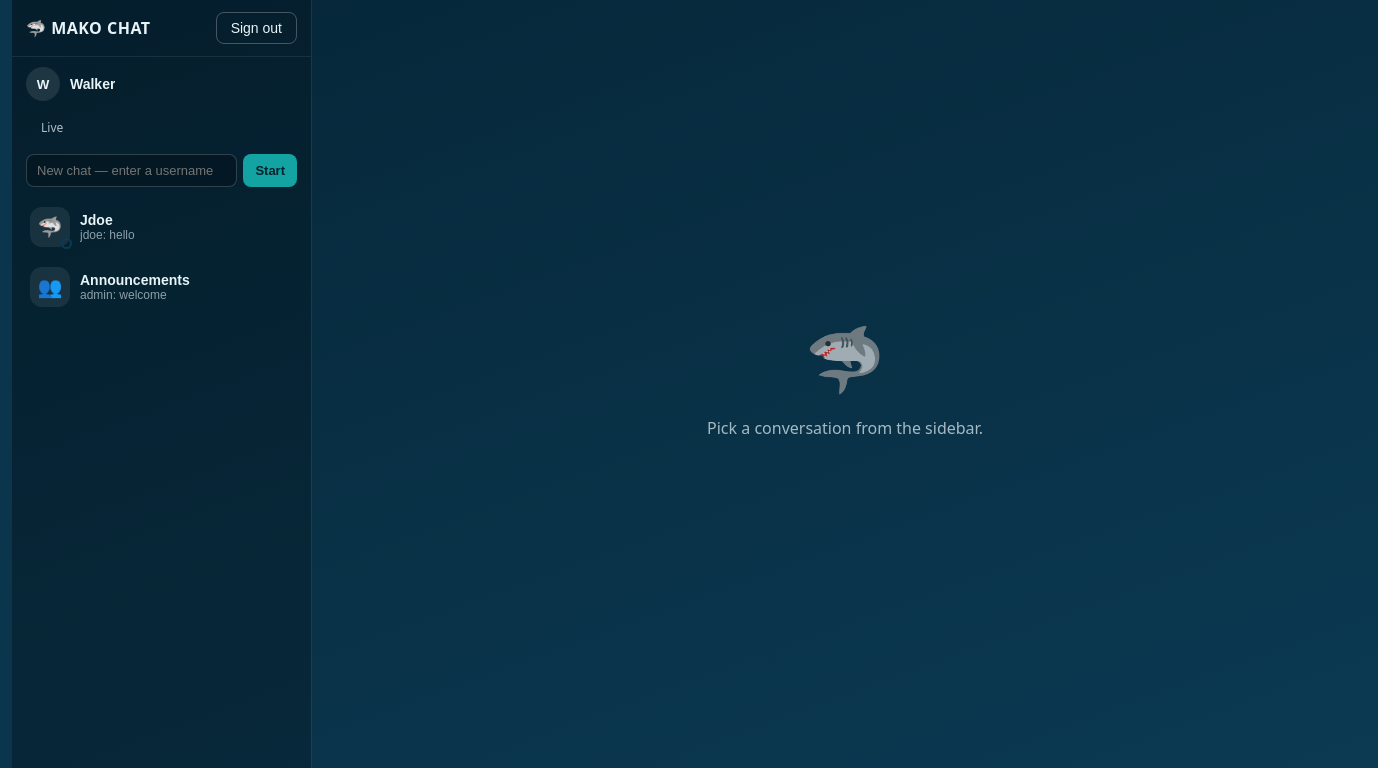
it: ChatShell › opens a room: its messages appear and typing sends through the wrapper
Later steps or results of the test are not shown.
Click the text "Jdoe". click: (96, 220)
box: [80,212,113,228]
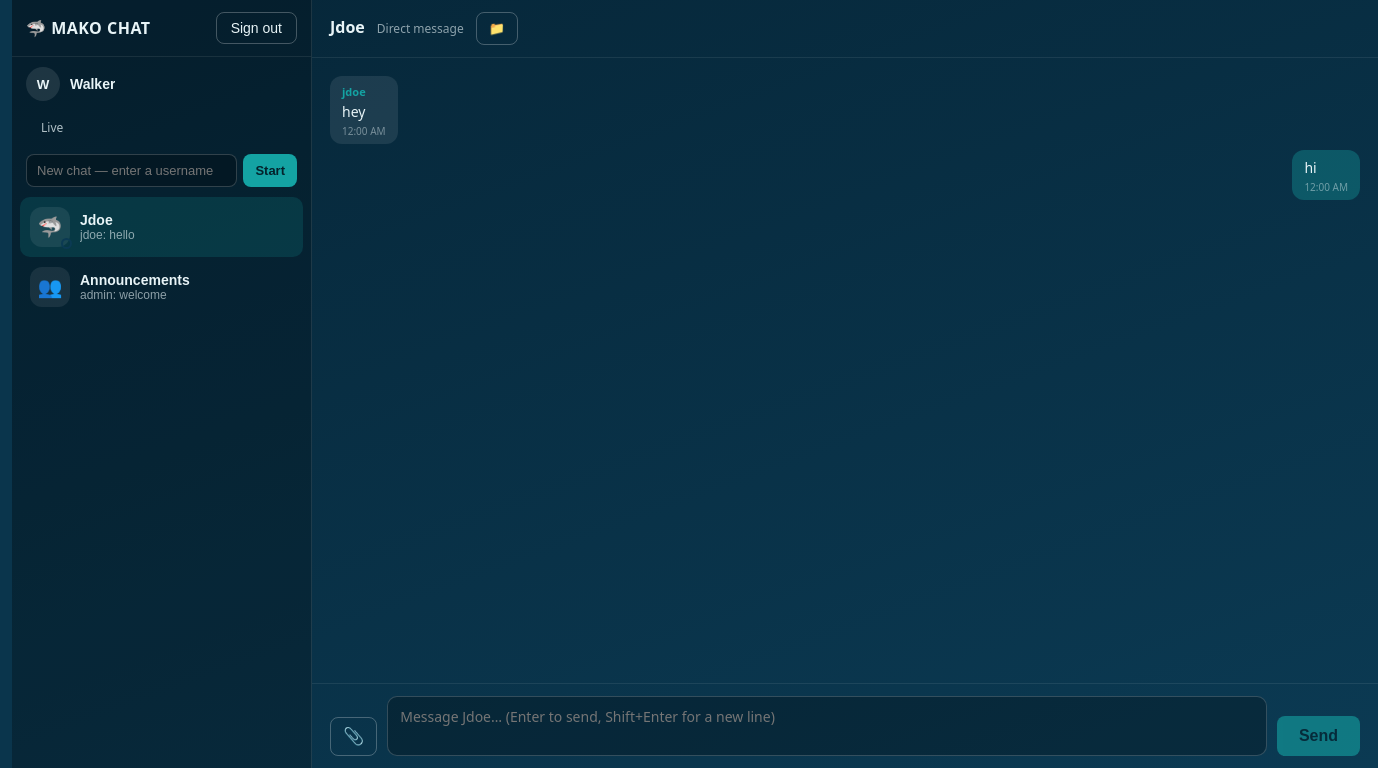
Expected: the text "hey" is shown, [342,102,365,121]
